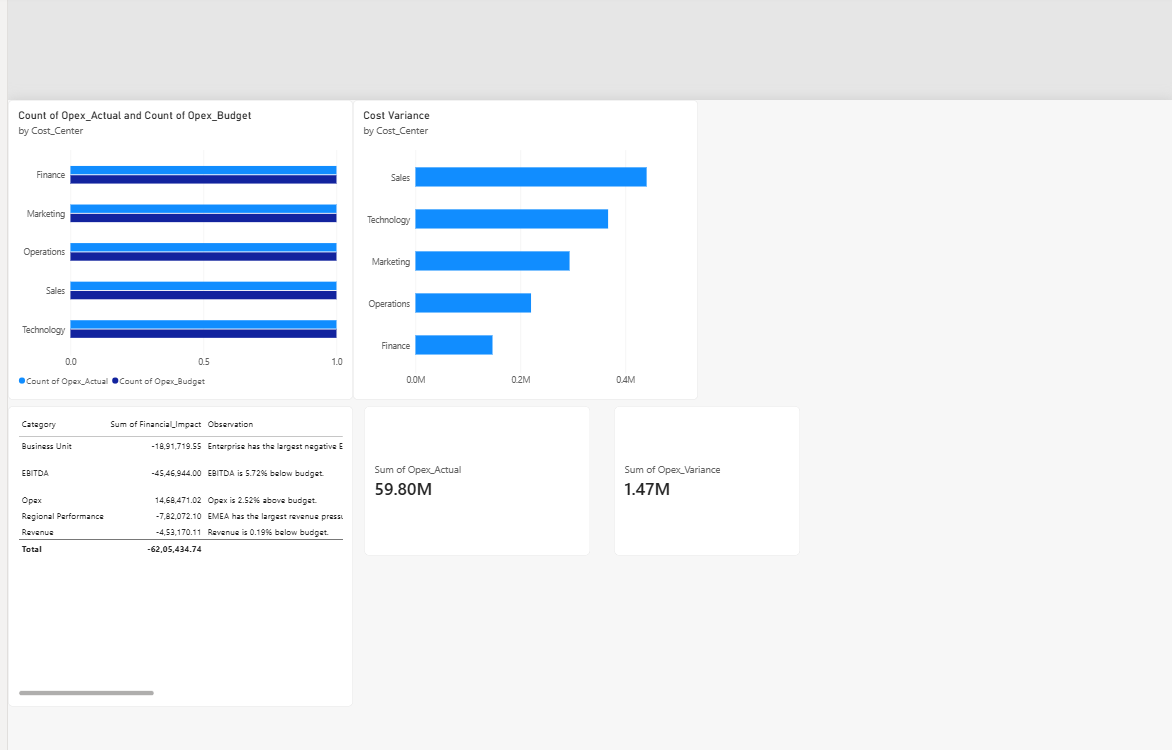

What the dashboard file says about the page in this screenshot:
{"tool":"powerbi","page":{"name":"Cost Center & Insights","canvas":[1920,1080],"ordinal":2},"visuals":[{"type":"clusteredBarChart","fields":{"Category":["Cost Center Summary.Cost_Center"],"Y":["CountNonNull(Cost Center Summary.Opex_Actual)","CountNonNull(Cost Center Summary.Opex_Budget)"]},"box":[0,0,568.1,494],"z":0},{"type":"clusteredBarChart","fields":{"Category":["Cost Center Summary.Cost_Center"],"Y":["Cost Center Summary.Cost Variance"]},"box":[568.1,0,568.1,494],"z":1},{"type":"tableEx","fields":{"Values":["Management Insights.Category","Sum(Management Insights.Financial_Impact)","Management Insights.Observation","Management Insights.Priority","Management Insights.Recommended_Action"]},"box":[0,504,568,494],"z":2},{"type":"cardVisual","fields":{"Data":["Sum(Cost Center Summary.Opex_Actual)"]},"box":[586.6,504.3,372.6,247],"z":3},{"type":"cardVisual","fields":{"Data":["Sum(Cost Center Summary.Opex_Variance)"]},"box":[998.3,504.3,306.7,247],"z":4}]}

Visuals, with their boxes on the page's 1920x1080 design canvas (x1, y1, x2, y2). These are canvas units, not pixel positions in the 1172x750 screenshot, which may show the page scaled, cropped or inside an application window:
clusteredBarChart - Cost Center Summary.Cost_Center x CountNonNull(Cost Center Summary.Opex_Actual): 0/0/568/494
clusteredBarChart - Cost Center Summary.Cost_Center x Cost Center Summary.Cost Variance: 568/0/1136/494
tableEx - Management Insights.Category x Sum(Management Insights.Financial_Impact): 0/504/568/998
cardVisual - Sum(Cost Center Summary.Opex_Actual): 587/504/959/751
cardVisual - Sum(Cost Center Summary.Opex_Variance): 998/504/1305/751
